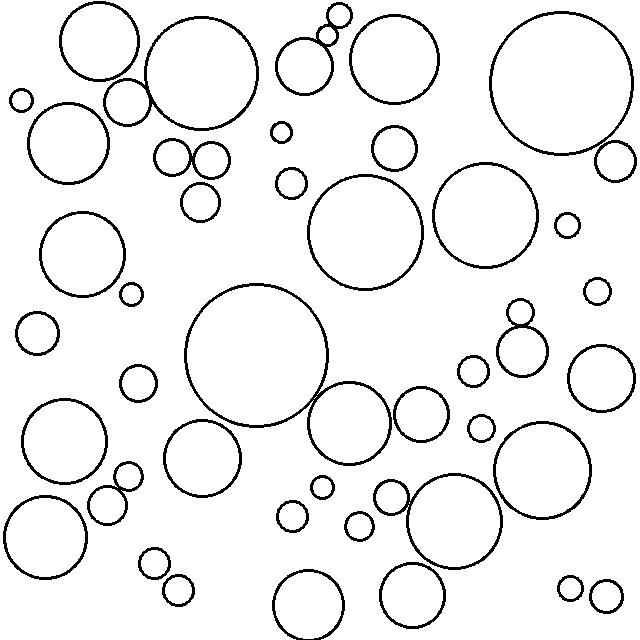circle: (487, 7, 638, 158), (181, 280, 331, 432), (141, 11, 263, 134), (304, 171, 425, 295), (429, 157, 542, 272), (490, 418, 595, 524), (405, 469, 504, 573), (346, 11, 444, 108), (16, 395, 111, 488), (304, 376, 394, 470), (37, 208, 128, 300), (2, 492, 92, 583), (23, 99, 113, 186), (55, 0, 142, 85), (160, 417, 246, 501), (269, 566, 349, 640), (376, 559, 450, 633), (566, 341, 640, 414), (273, 35, 338, 99), (392, 383, 453, 446), (494, 324, 549, 380), (100, 74, 154, 130), (367, 122, 421, 175), (13, 308, 63, 359), (86, 481, 132, 530), (115, 360, 162, 407), (592, 137, 636, 187), (178, 181, 224, 226), (371, 475, 413, 520), (150, 137, 193, 179), (191, 139, 233, 182), (587, 576, 628, 619), (158, 569, 198, 610), (273, 496, 313, 536), (273, 162, 312, 203), (455, 350, 494, 391), (136, 541, 175, 582), (580, 271, 615, 311), (111, 457, 148, 494), (343, 506, 378, 545), (550, 208, 586, 245), (503, 294, 539, 328), (466, 410, 499, 446), (555, 571, 587, 606), (308, 469, 338, 504), (323, 0, 355, 31), (267, 116, 298, 147), (6, 85, 36, 114), (117, 280, 147, 309), (315, 21, 343, 50)
